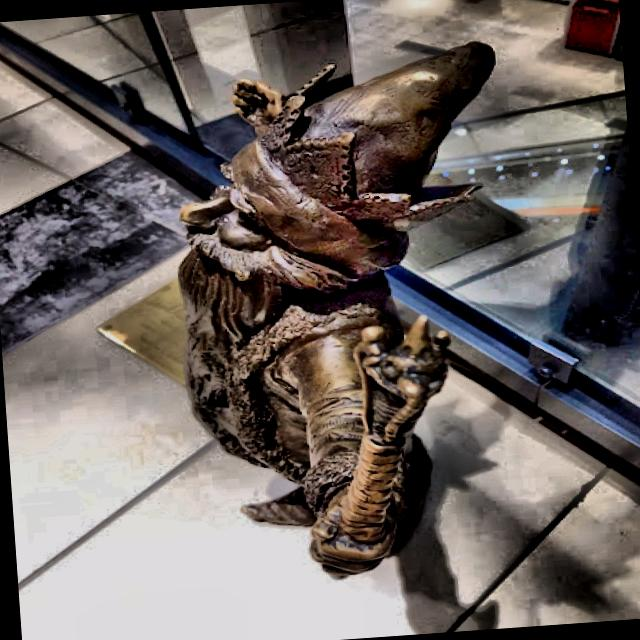Serdecznis: (178, 42, 492, 576)
